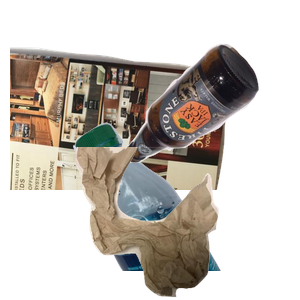glass: (120, 41, 300, 196)
paper: (10, 44, 232, 224)
plastic: (71, 120, 300, 300)
trash: (73, 147, 300, 300)
